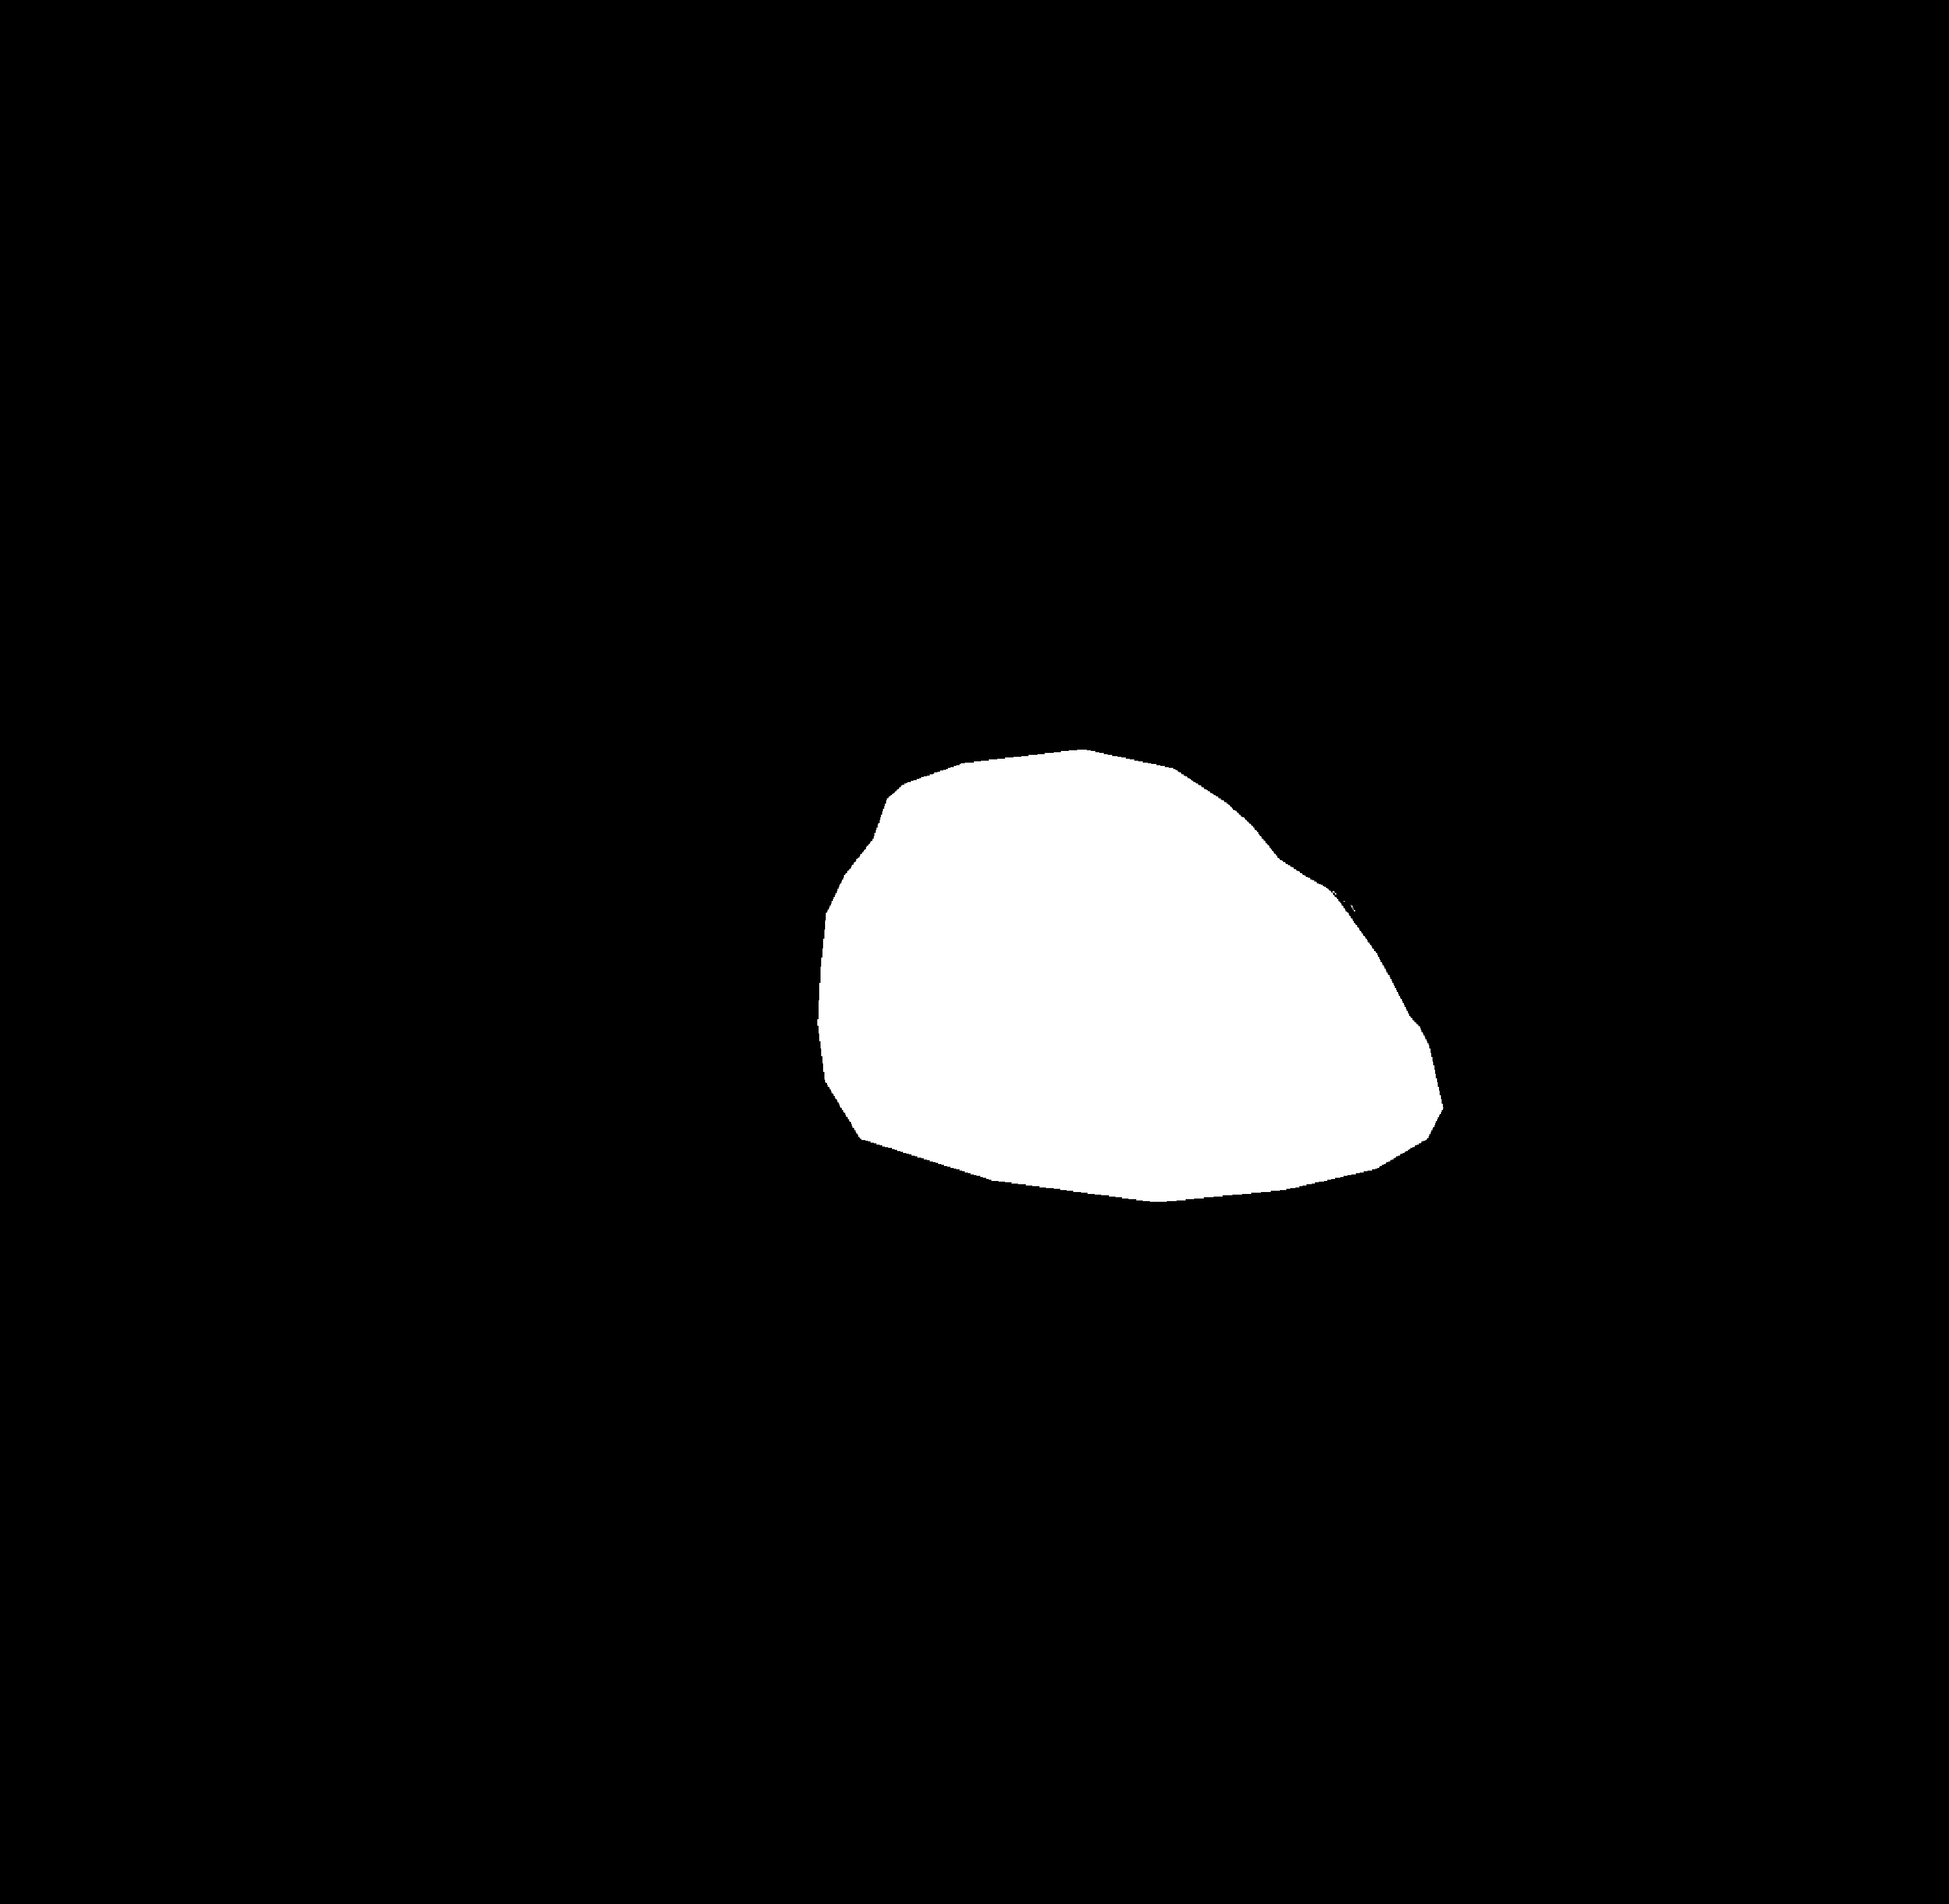heart: (816, 828, 1463, 1262)
left_lung: (413, 291, 943, 1259)
right_lung: (1076, 275, 1642, 1231)
